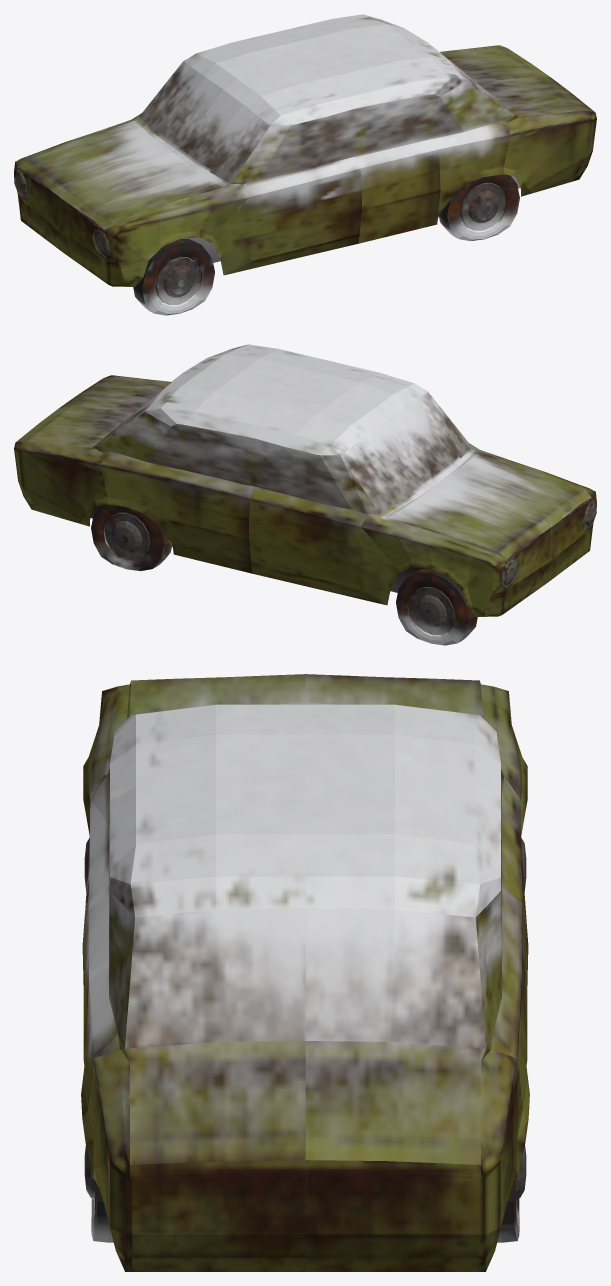
File: Low_poly_Car_PS1_style.glb
3 views of the same model, one above another, from view 1: azimuth 30°, elevation 25°; view 2: azimuth 150°, elevation 25°; view 3: azimuth 270°, elevation 25° (orthographic). The views are drawn at different scales.
Parts seen in each view (by area): view 1: unnamed; view 2: unnamed; view 3: unnamed.
Part boxes in pixels (x1=…): unnamed: x1=14, y1=14, x2=596, y2=315; unnamed: x1=14, y1=344, x2=596, y2=645; unnamed: x1=81, y1=674, x2=529, y2=1271.
Size of the model in its own units: 293 by 96.74 by 115.
1 material, 1 textured.
